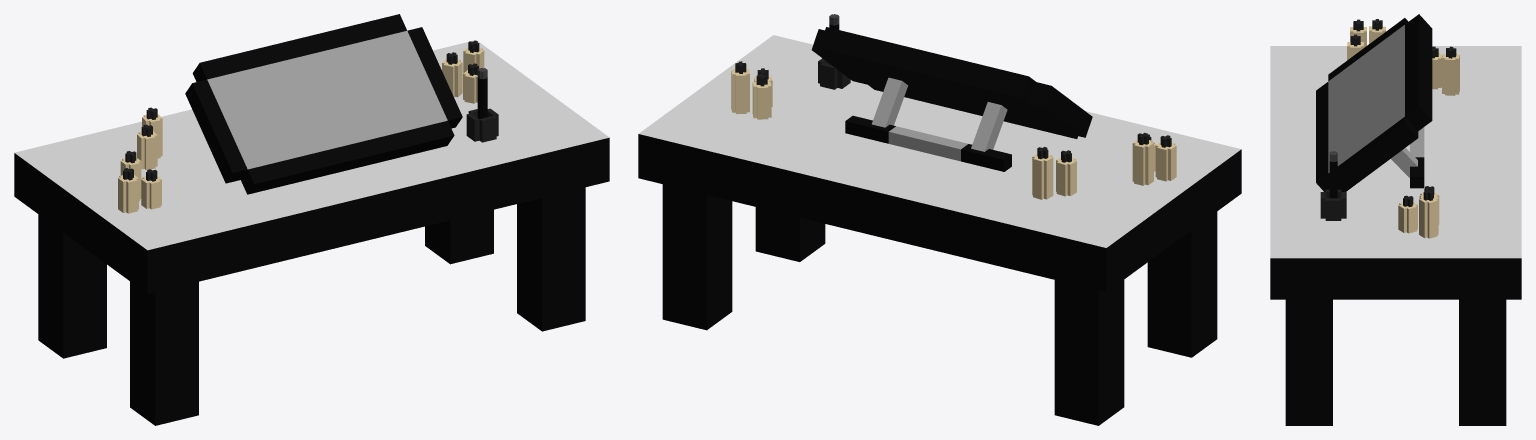
Rendered from Table.fbx.
3 views of the same model, side by side, from view 1: azimuth 30°, elevation 25°; view 2: azimuth 150°, elevation 25°; view 3: azimuth 270°, elevation 25° (orthographic). The views are drawn at different scales.
Parts seen in each view (by area): view 1: Table; view 2: Table; view 3: Table.
Boxes of the visible parts, left/top/right/bottom form: Table: left=14, top=14, right=609, bottom=425; Table: left=638, top=14, right=1241, bottom=425; Table: left=1270, top=14, right=1521, bottom=425.
Size of the model in its own units: 400 by 234 by 200.
